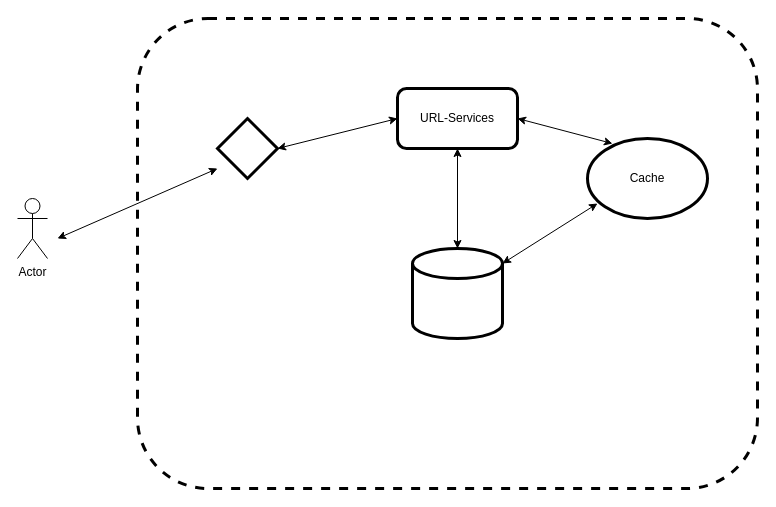
Some shapes in this 776 by 507 pixel diagram are drawn without their labels. The centre of each missing label's shape, as x and y in pixels:
DB Cassandra: (457,293)
LB: (247,148)
